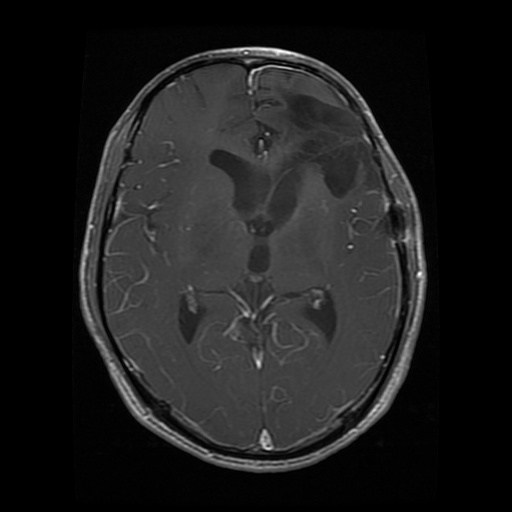glioma: (280, 90, 367, 202)
